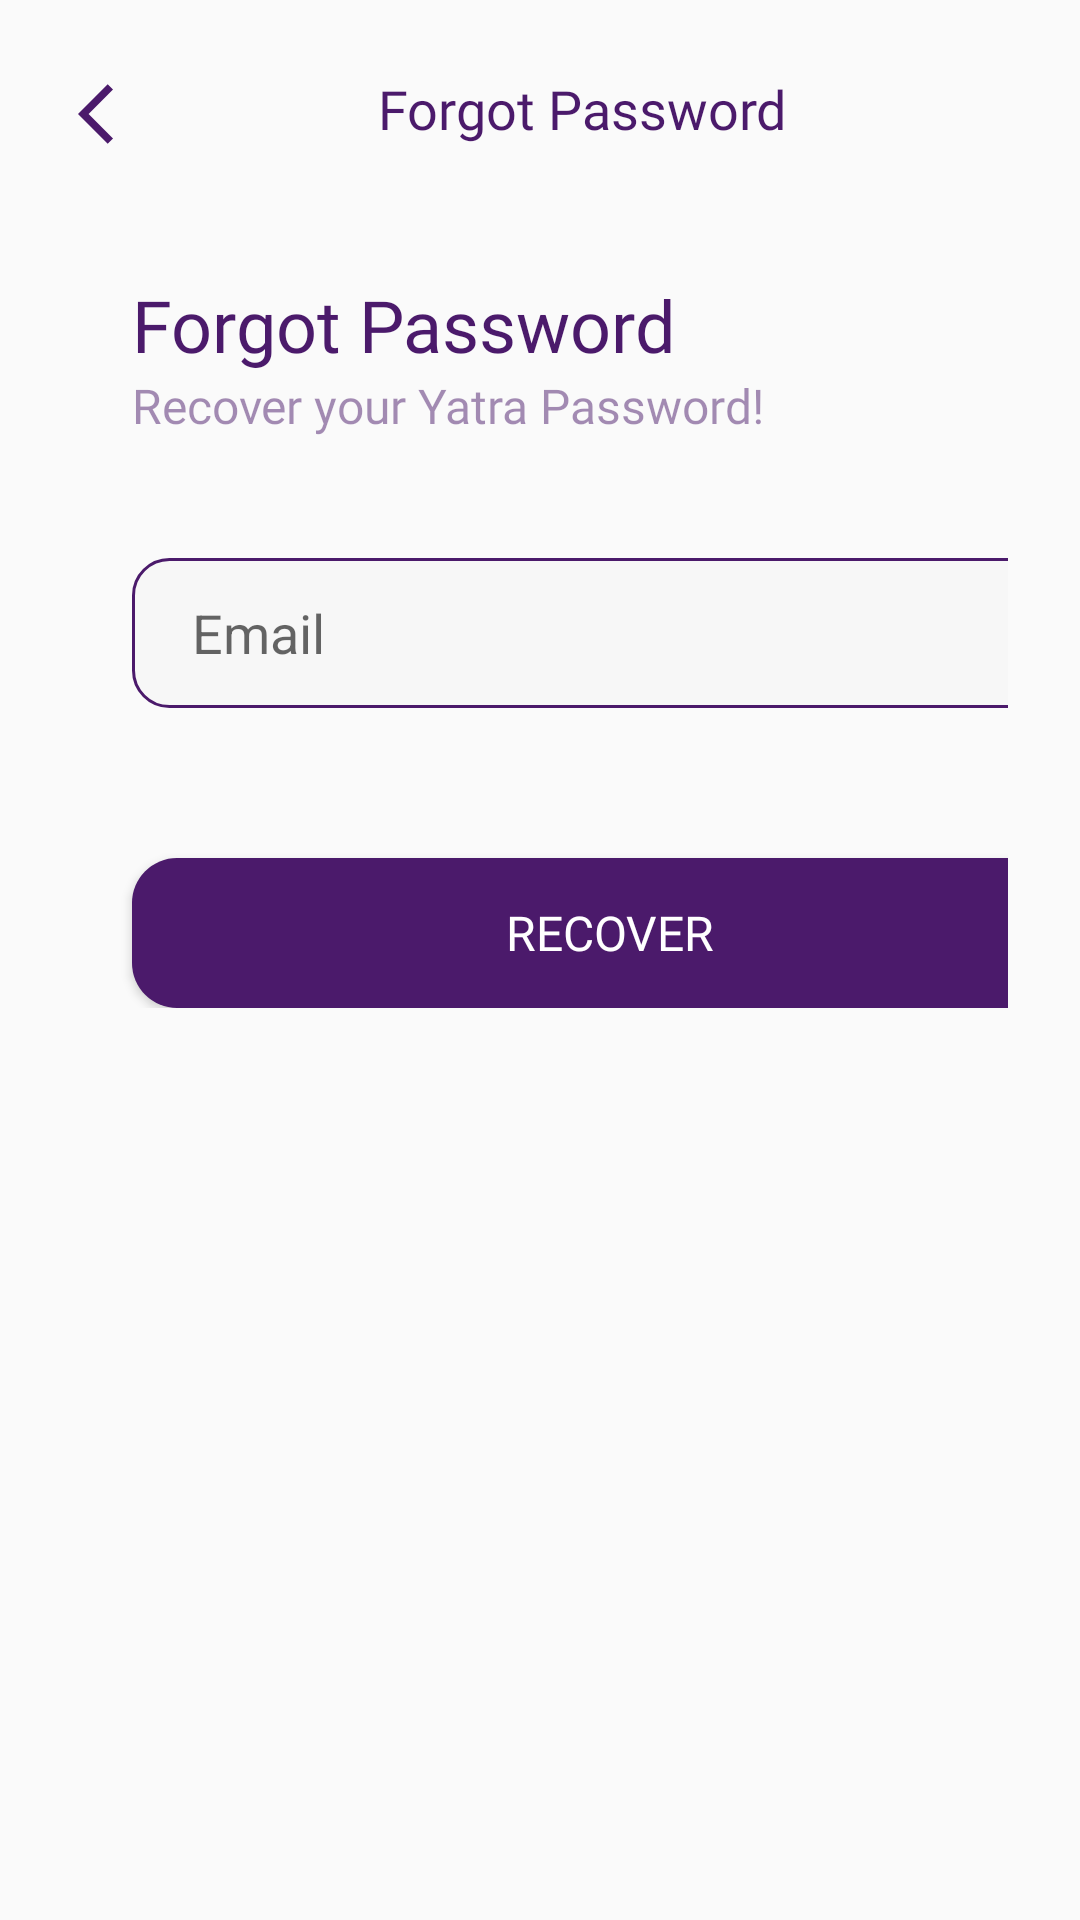

Locate icon controls on the screen. Image size 1080w x 1920h, boxes as (x1, y1, x2, y2).
back arrow: (78, 84, 113, 144)
